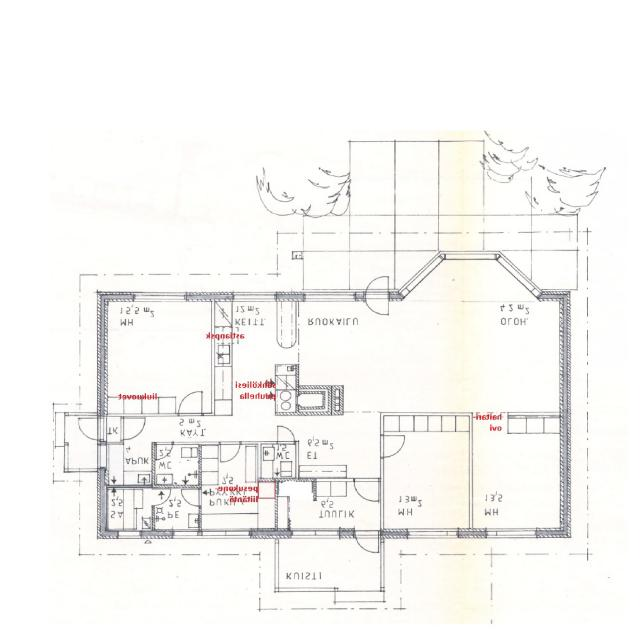door: (74, 418, 108, 440), (355, 529, 379, 560), (366, 270, 389, 301), (366, 292, 389, 322), (354, 478, 379, 504), (179, 390, 202, 416), (121, 418, 147, 439), (381, 436, 406, 457), (222, 441, 240, 462), (181, 489, 202, 506), (157, 441, 174, 460), (152, 489, 172, 505), (278, 425, 294, 444)
